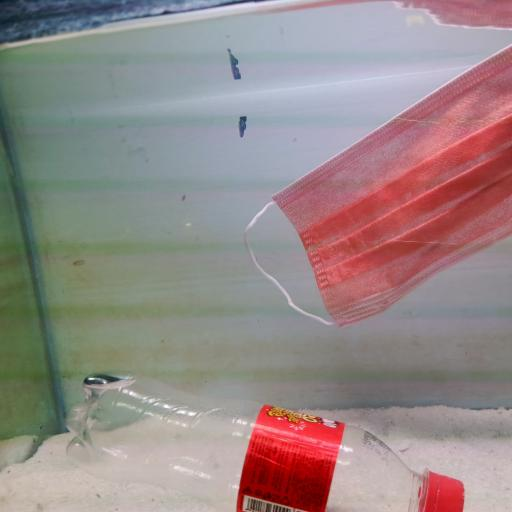bottle_cap: (425, 463, 468, 512)
mask: (246, 50, 512, 363)
plastic_bottle: (69, 370, 471, 512)
